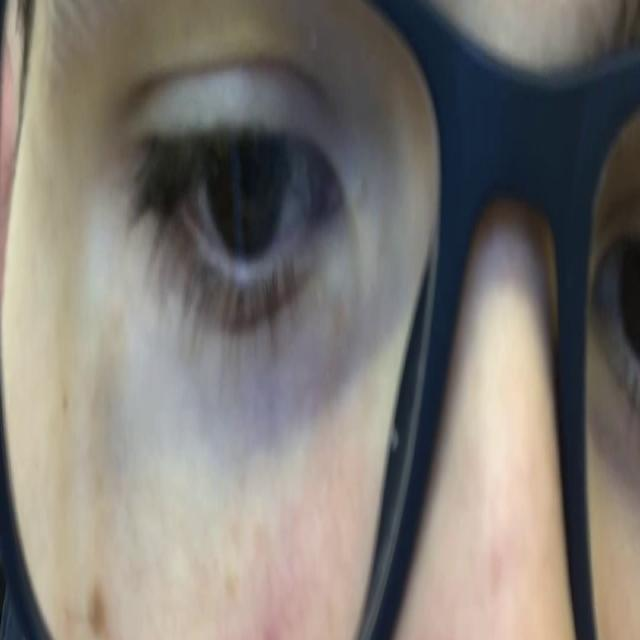eye: (122, 56, 349, 326)
gaze: (206, 100, 285, 274)
